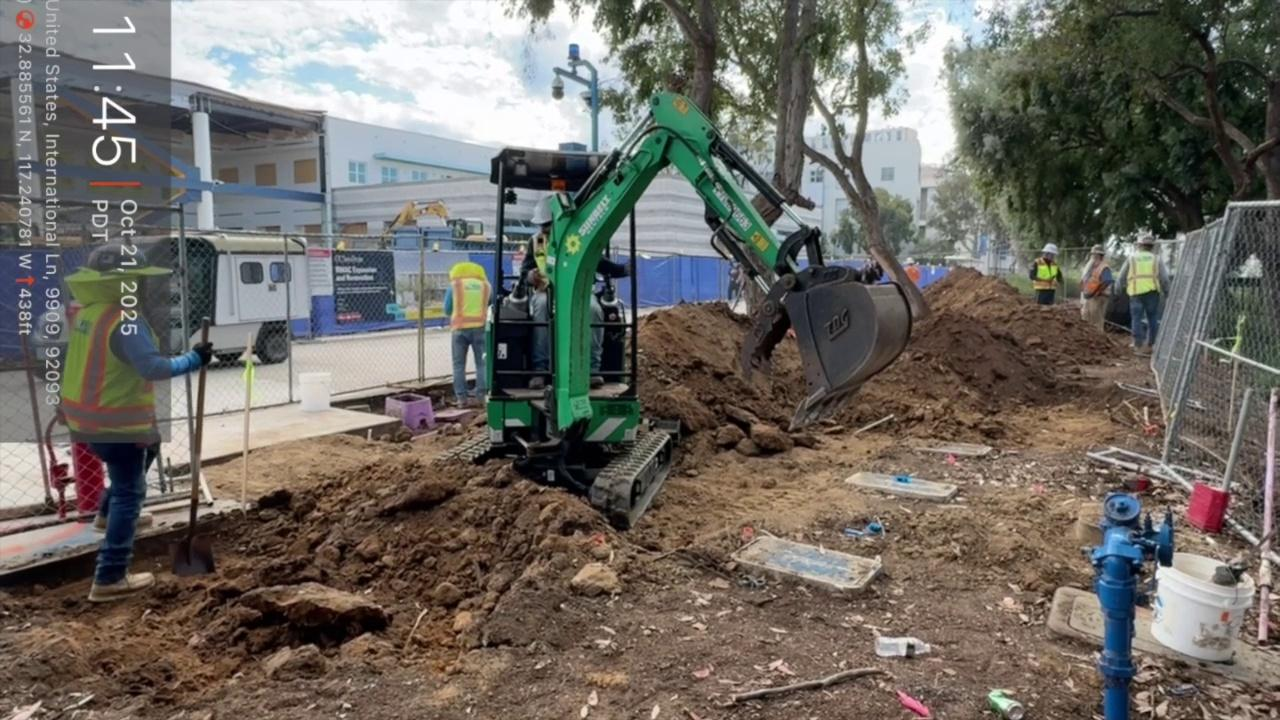Exacavator: (472, 88, 928, 529)
